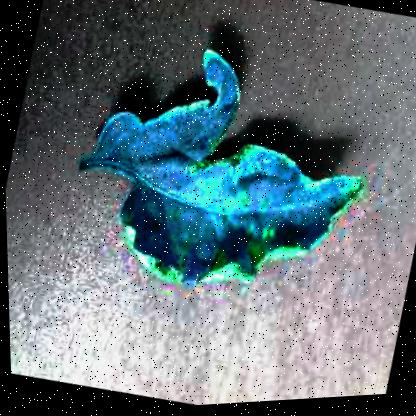BACTERIAL SPOT: (46, 13, 392, 331)
